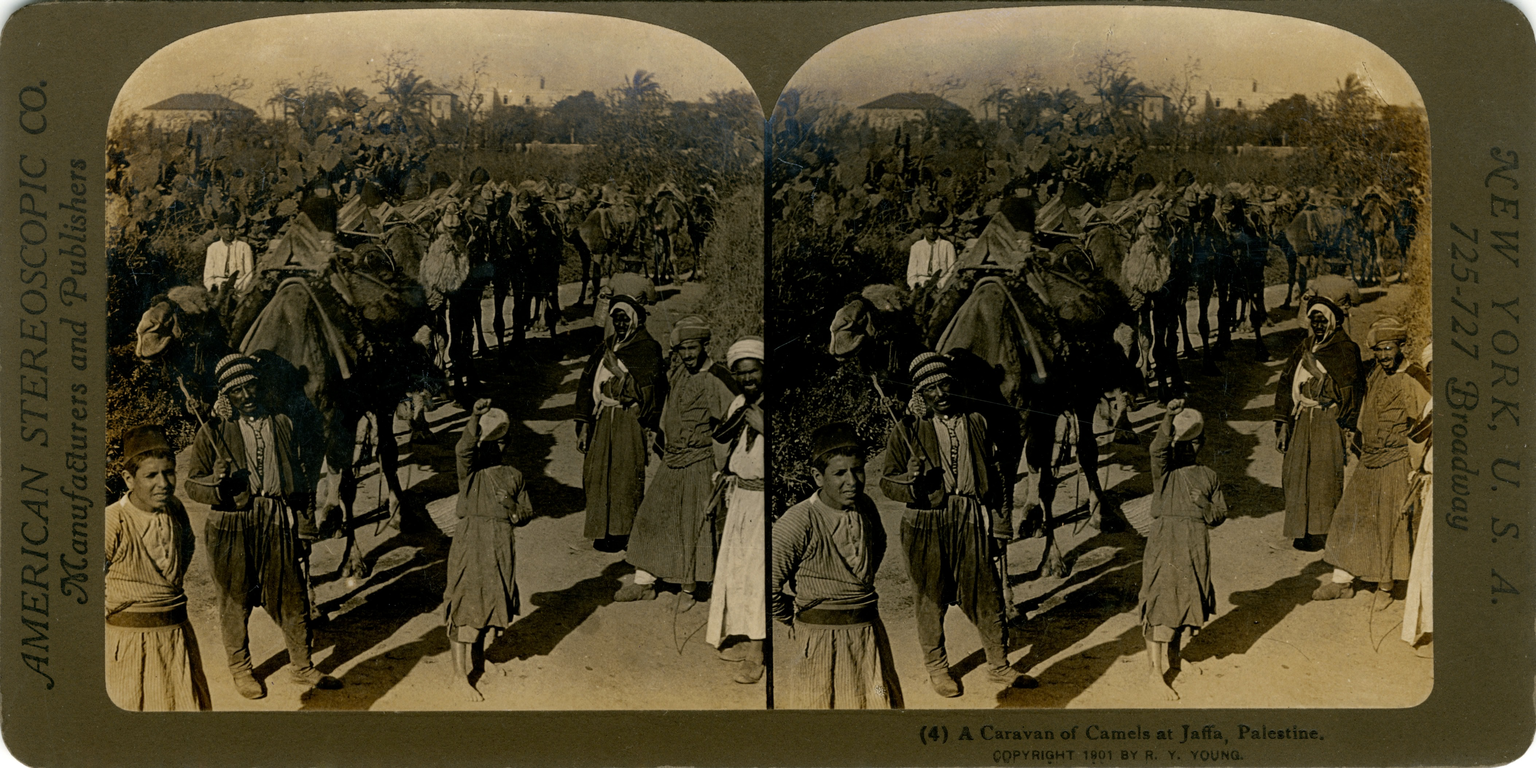half_image: (771, 6, 1435, 710), (105, 11, 767, 712)
